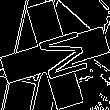M_W: (24, 26, 86, 84)
